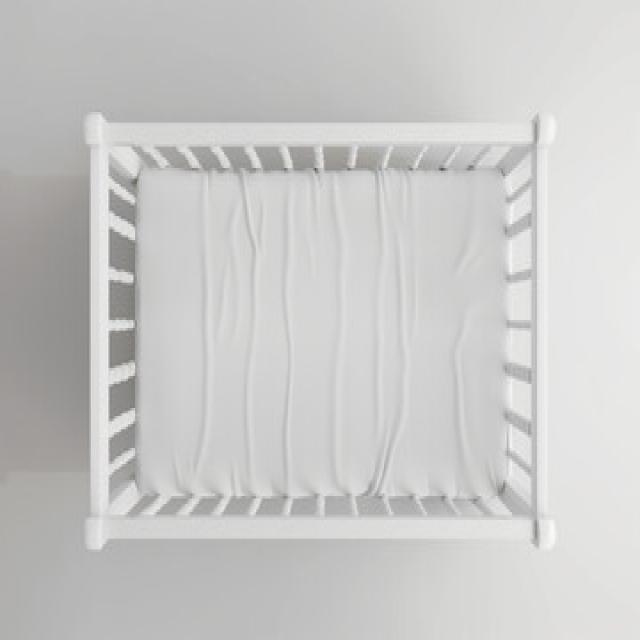crib: (82, 107, 556, 552)
